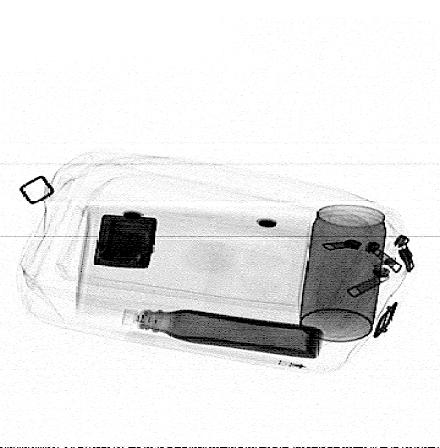Lighter: (93, 214, 157, 268)
